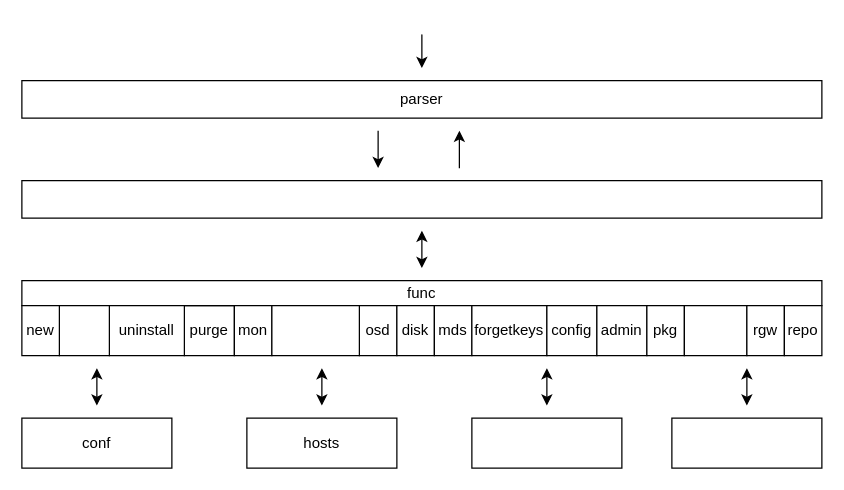
Some shapes in this 844 by 490 pixel diagram are drawn without their labels. The centre of each missing label's shape, as x and y in pixels:
calamari: (715,330)
cli: (421,198)
gatherkeys: (315,330)
install: (83,330)
lib: (546,442)
util: (746,442)
